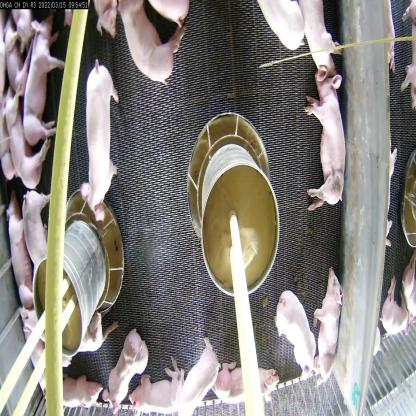Pig: (77, 40, 120, 235), (114, 0, 187, 92), (303, 71, 346, 215), (25, 12, 60, 150), (24, 307, 70, 409), (7, 87, 50, 193), (3, 192, 40, 310), (294, 0, 343, 88), (274, 281, 317, 379), (170, 330, 219, 415), (99, 329, 147, 412), (313, 264, 343, 380), (128, 354, 186, 414), (211, 360, 278, 408), (19, 194, 57, 268), (259, 0, 304, 54), (382, 264, 412, 336), (57, 378, 111, 408)
